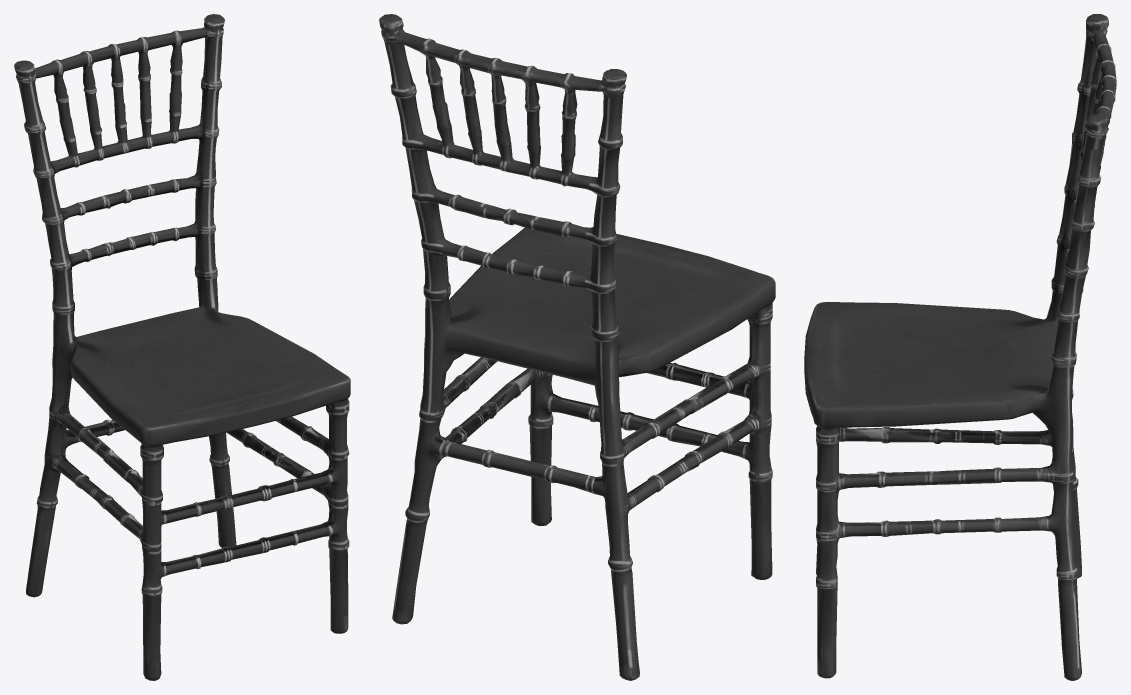
The model's file is Black_Chiavari_Chair_0320030954_texture.glb.
3 renders of one model, left to right at view 1: azimuth 30°, elevation 25°; view 2: azimuth 150°, elevation 25°; view 3: azimuth 270°, elevation 25°, orthographic. The views are drawn at different scales.
Parts seen in each view (by area): view 1: Mesh_0; view 2: Mesh_0; view 3: Mesh_0.
Boxes of the visible parts, x1,y1,x2,y2 form: Mesh_0: (14,14,350,680); Mesh_0: (379,14,775,680); Mesh_0: (804,14,1116,680).
Bounding box in the file's own units: 0.3812 × 0.9144 × 0.46.
1 material, 1 textured.
